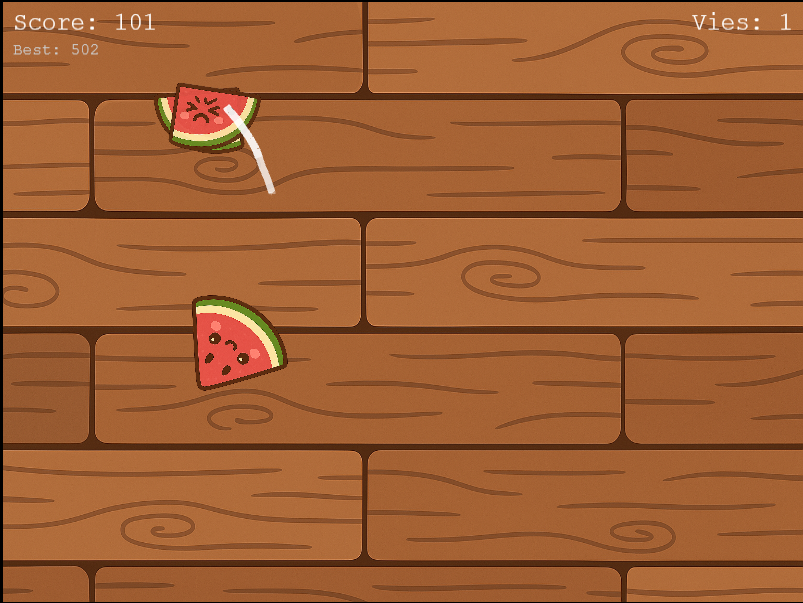fruit: (188, 293, 291, 393)
